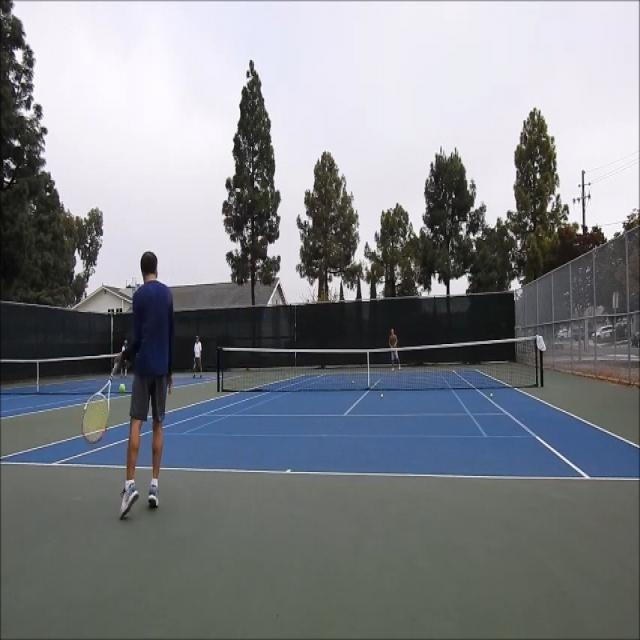court: (0, 370, 640, 480)
net: (214, 332, 546, 400)
player: (82, 248, 176, 524)
